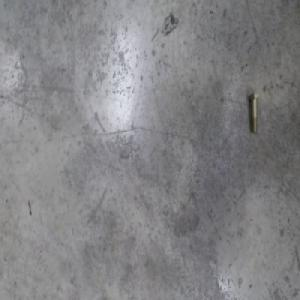Bolt: (249, 91, 259, 133)
